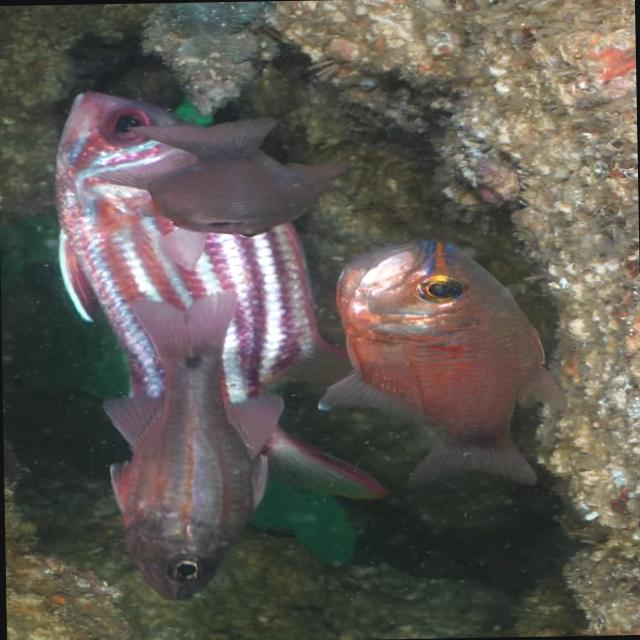Asker Baligi: (39, 48, 338, 546)
